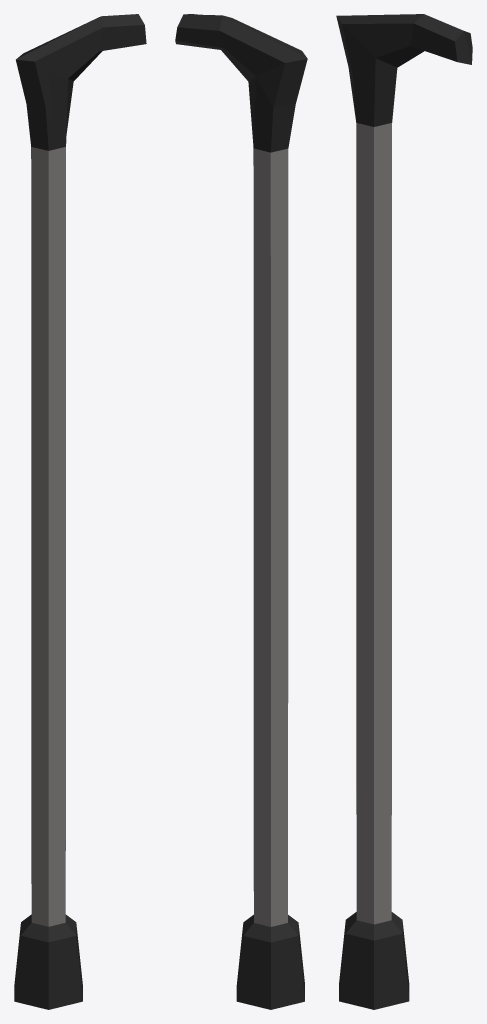
The model's file is cane.glb.
3 views of the same model, side by side, from view 1: azimuth 30°, elevation 25°; view 2: azimuth 150°, elevation 25°; view 3: azimuth 330°, elevation 25° (orthographic). The views are drawn at different scales.
Parts seen in each view (by area): view 1: cane; view 2: cane; view 3: cane.
Boxes of the visible parts, x1,y1,x2,y2 form: cane: [14, 14, 146, 1009]; cane: [175, 14, 307, 1009]; cane: [336, 14, 472, 1009].
Bounding box in the file's own units: 0.1436 × 1.01 × 0.065.
Materials: 1 (1 with a texture image).
